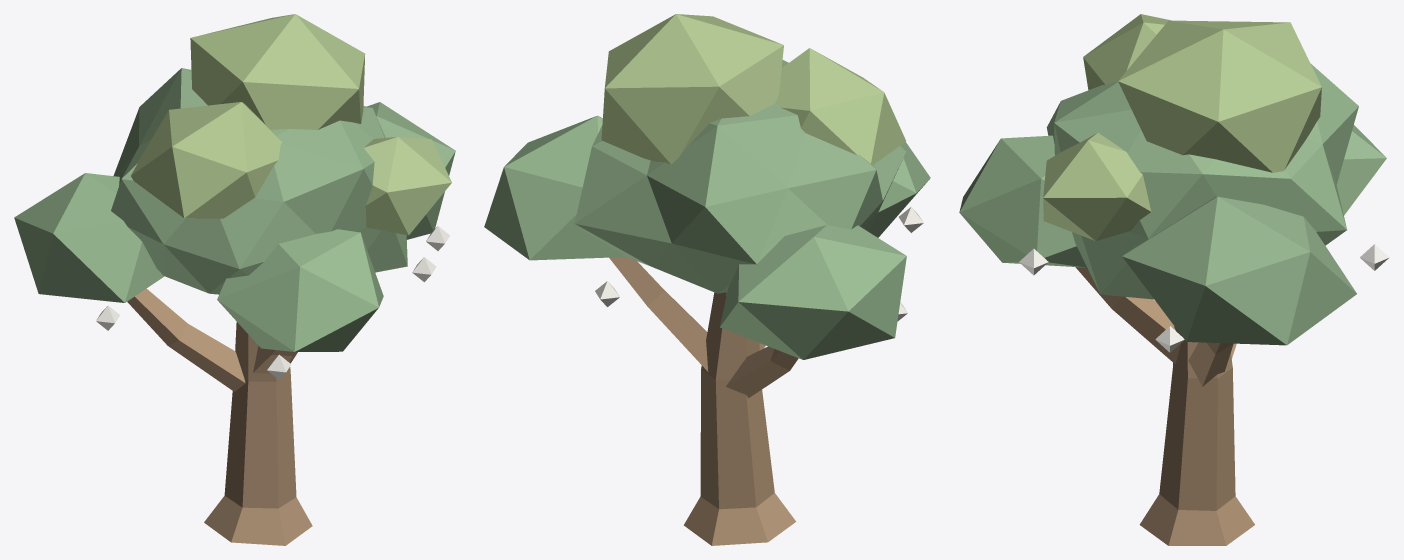
The model's file is oak.glb.
3 views of the same model, side by side, from view 1: azimuth 30°, elevation 25°; view 2: azimuth 150°, elevation 25°; view 3: azimuth 270°, elevation 25° (orthographic). The views are drawn at different scales.
Visible parts, largest first — view 1: tree_oak; view 2: tree_oak; view 3: tree_oak.
Part boxes in pixels (left/top/right/bottom): tree_oak: left=14, top=14, right=455, bottom=545; tree_oak: left=484, top=14, right=930, bottom=545; tree_oak: left=959, top=14, right=1389, bottom=545.
Size of the model in its own units: 0.7007 by 0.8434 by 0.6313.
